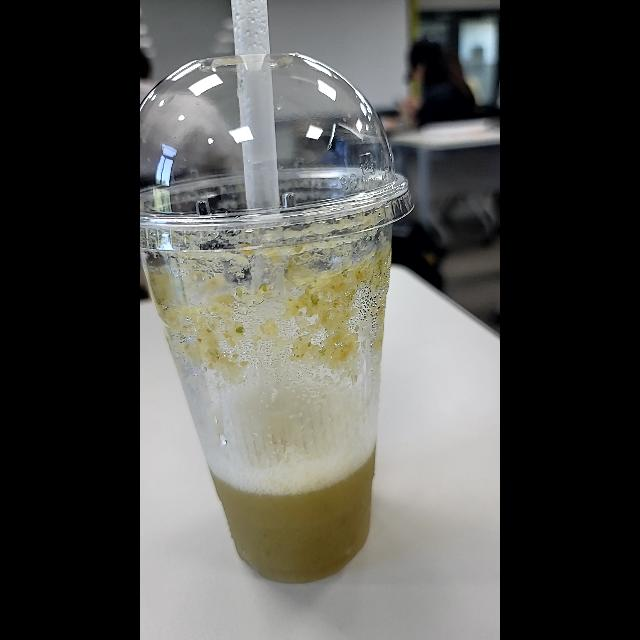plastic_cup: (140, 43, 404, 594)
plastic_cup_lid: (140, 48, 414, 256)
straw: (229, 2, 288, 311)
